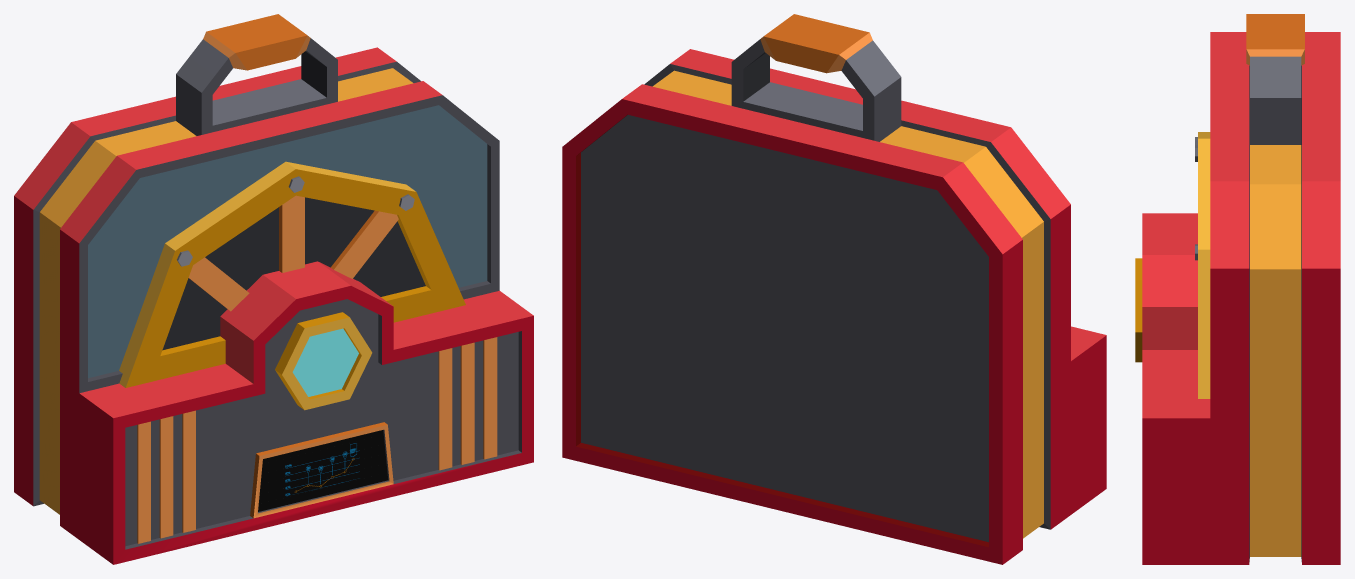
Rendered from CaseSciFi_01.glb.
The picture shows the model from 3 angles, left to right: view 1: azimuth 30°, elevation 25°; view 2: azimuth 150°, elevation 25°; view 3: azimuth 270°, elevation 25°; orthographic projection. The views are drawn at different scales.
Visible parts, largest first — view 1: CaseSciFi_01; view 2: CaseSciFi_01; view 3: CaseSciFi_01.
Part boxes in pixels (x1=…): CaseSciFi_01: x1=14, y1=14, x2=533, y2=564; CaseSciFi_01: x1=562, y1=14, x2=1106, y2=564; CaseSciFi_01: x1=1135, y1=14, x2=1340, y2=564.
Size of what is drawn, in the model's own units: 0.7223 by 0.7079 by 0.3062.
Materials: 2 (2 with a texture image).
